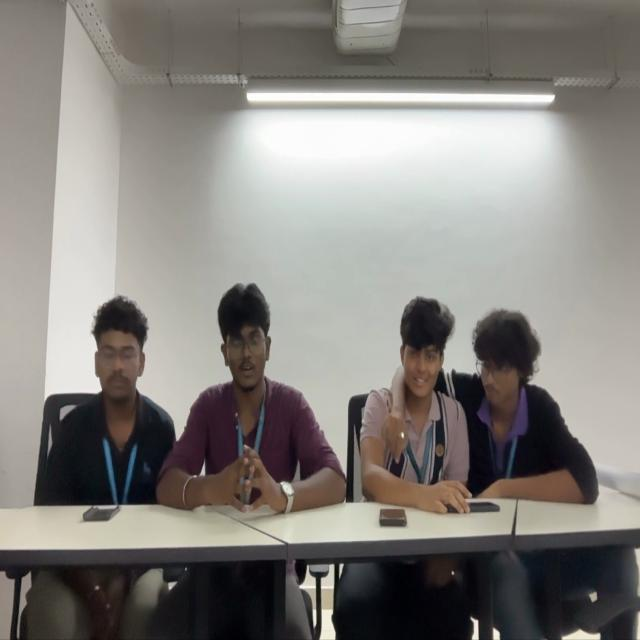Isolated: (186, 284, 328, 508), (49, 298, 151, 503)
socializing: (357, 293, 600, 505)
